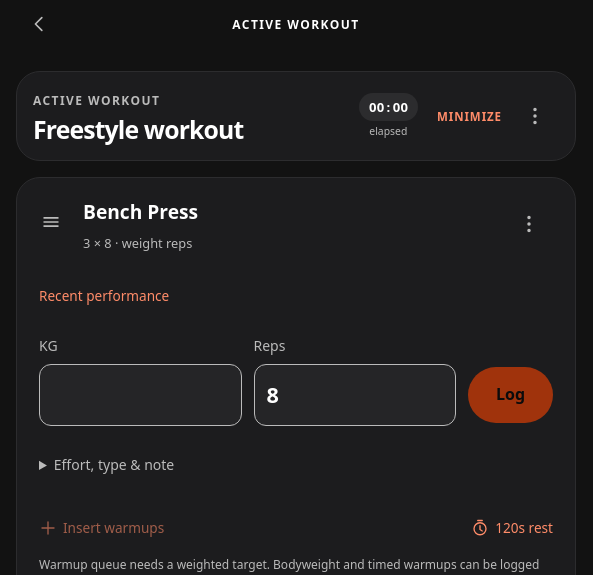
converts an unlogged weight draft when another tab changes units
In the number field labelled "KG": (140, 395) [39,364,242,426], type "65"
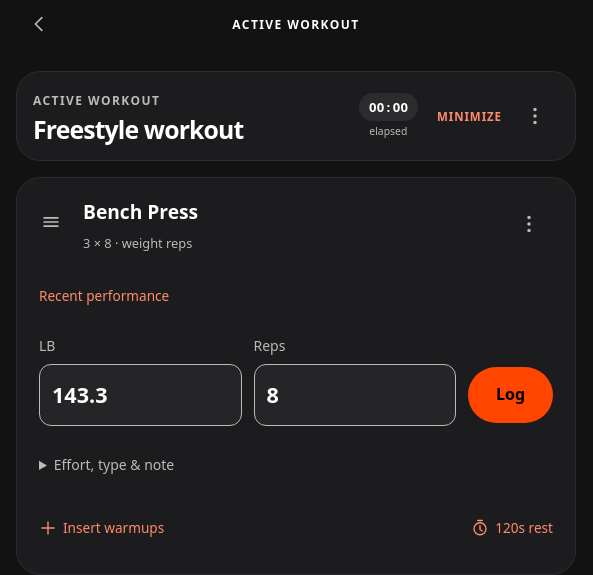
Check: the number field labelled "LB" holds "143.3", box [39,364,242,426]
